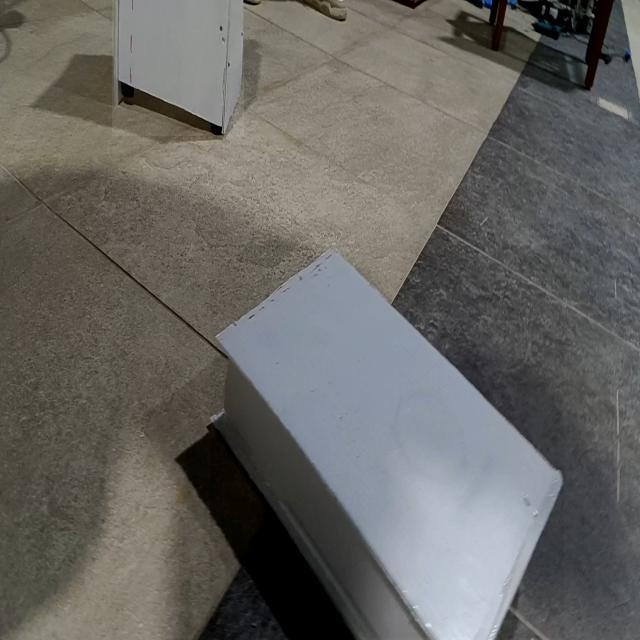Cube: (112, 0, 244, 136)
Cuboid: (210, 245, 564, 638)
